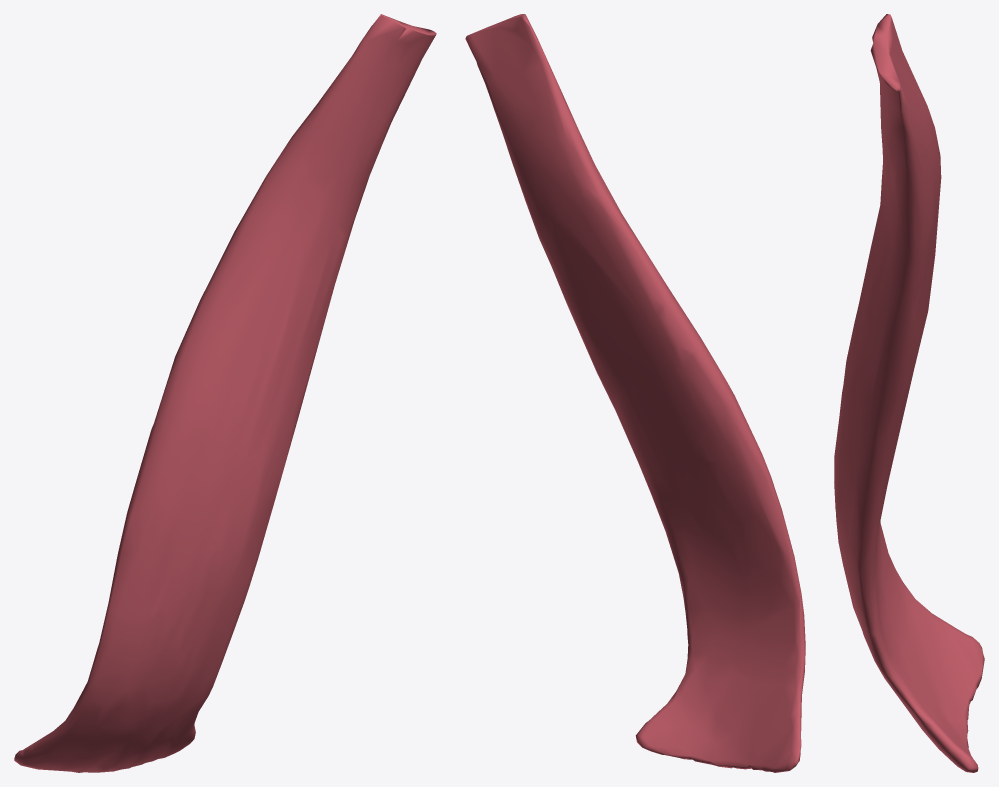
3 renders of one model, left to right at view 1: azimuth 30°, elevation 25°; view 2: azimuth 150°, elevation 25°; view 3: azimuth 270°, elevation 25°, orthographic. The views are drawn at different scales.
Parts seen in each view (by area): view 1: 右侧上直肌; view 2: 右侧上直肌; view 3: 右侧上直肌.
Boxes of the visible parts, box(x1,y1,x2,y2) form: 右侧上直肌: box(14, 14, 436, 772); 右侧上直肌: box(465, 14, 805, 772); 右侧上直肌: box(834, 14, 984, 772).
Size of the model in its own units: 0.0337 by 0.0598 by 0.00951.
